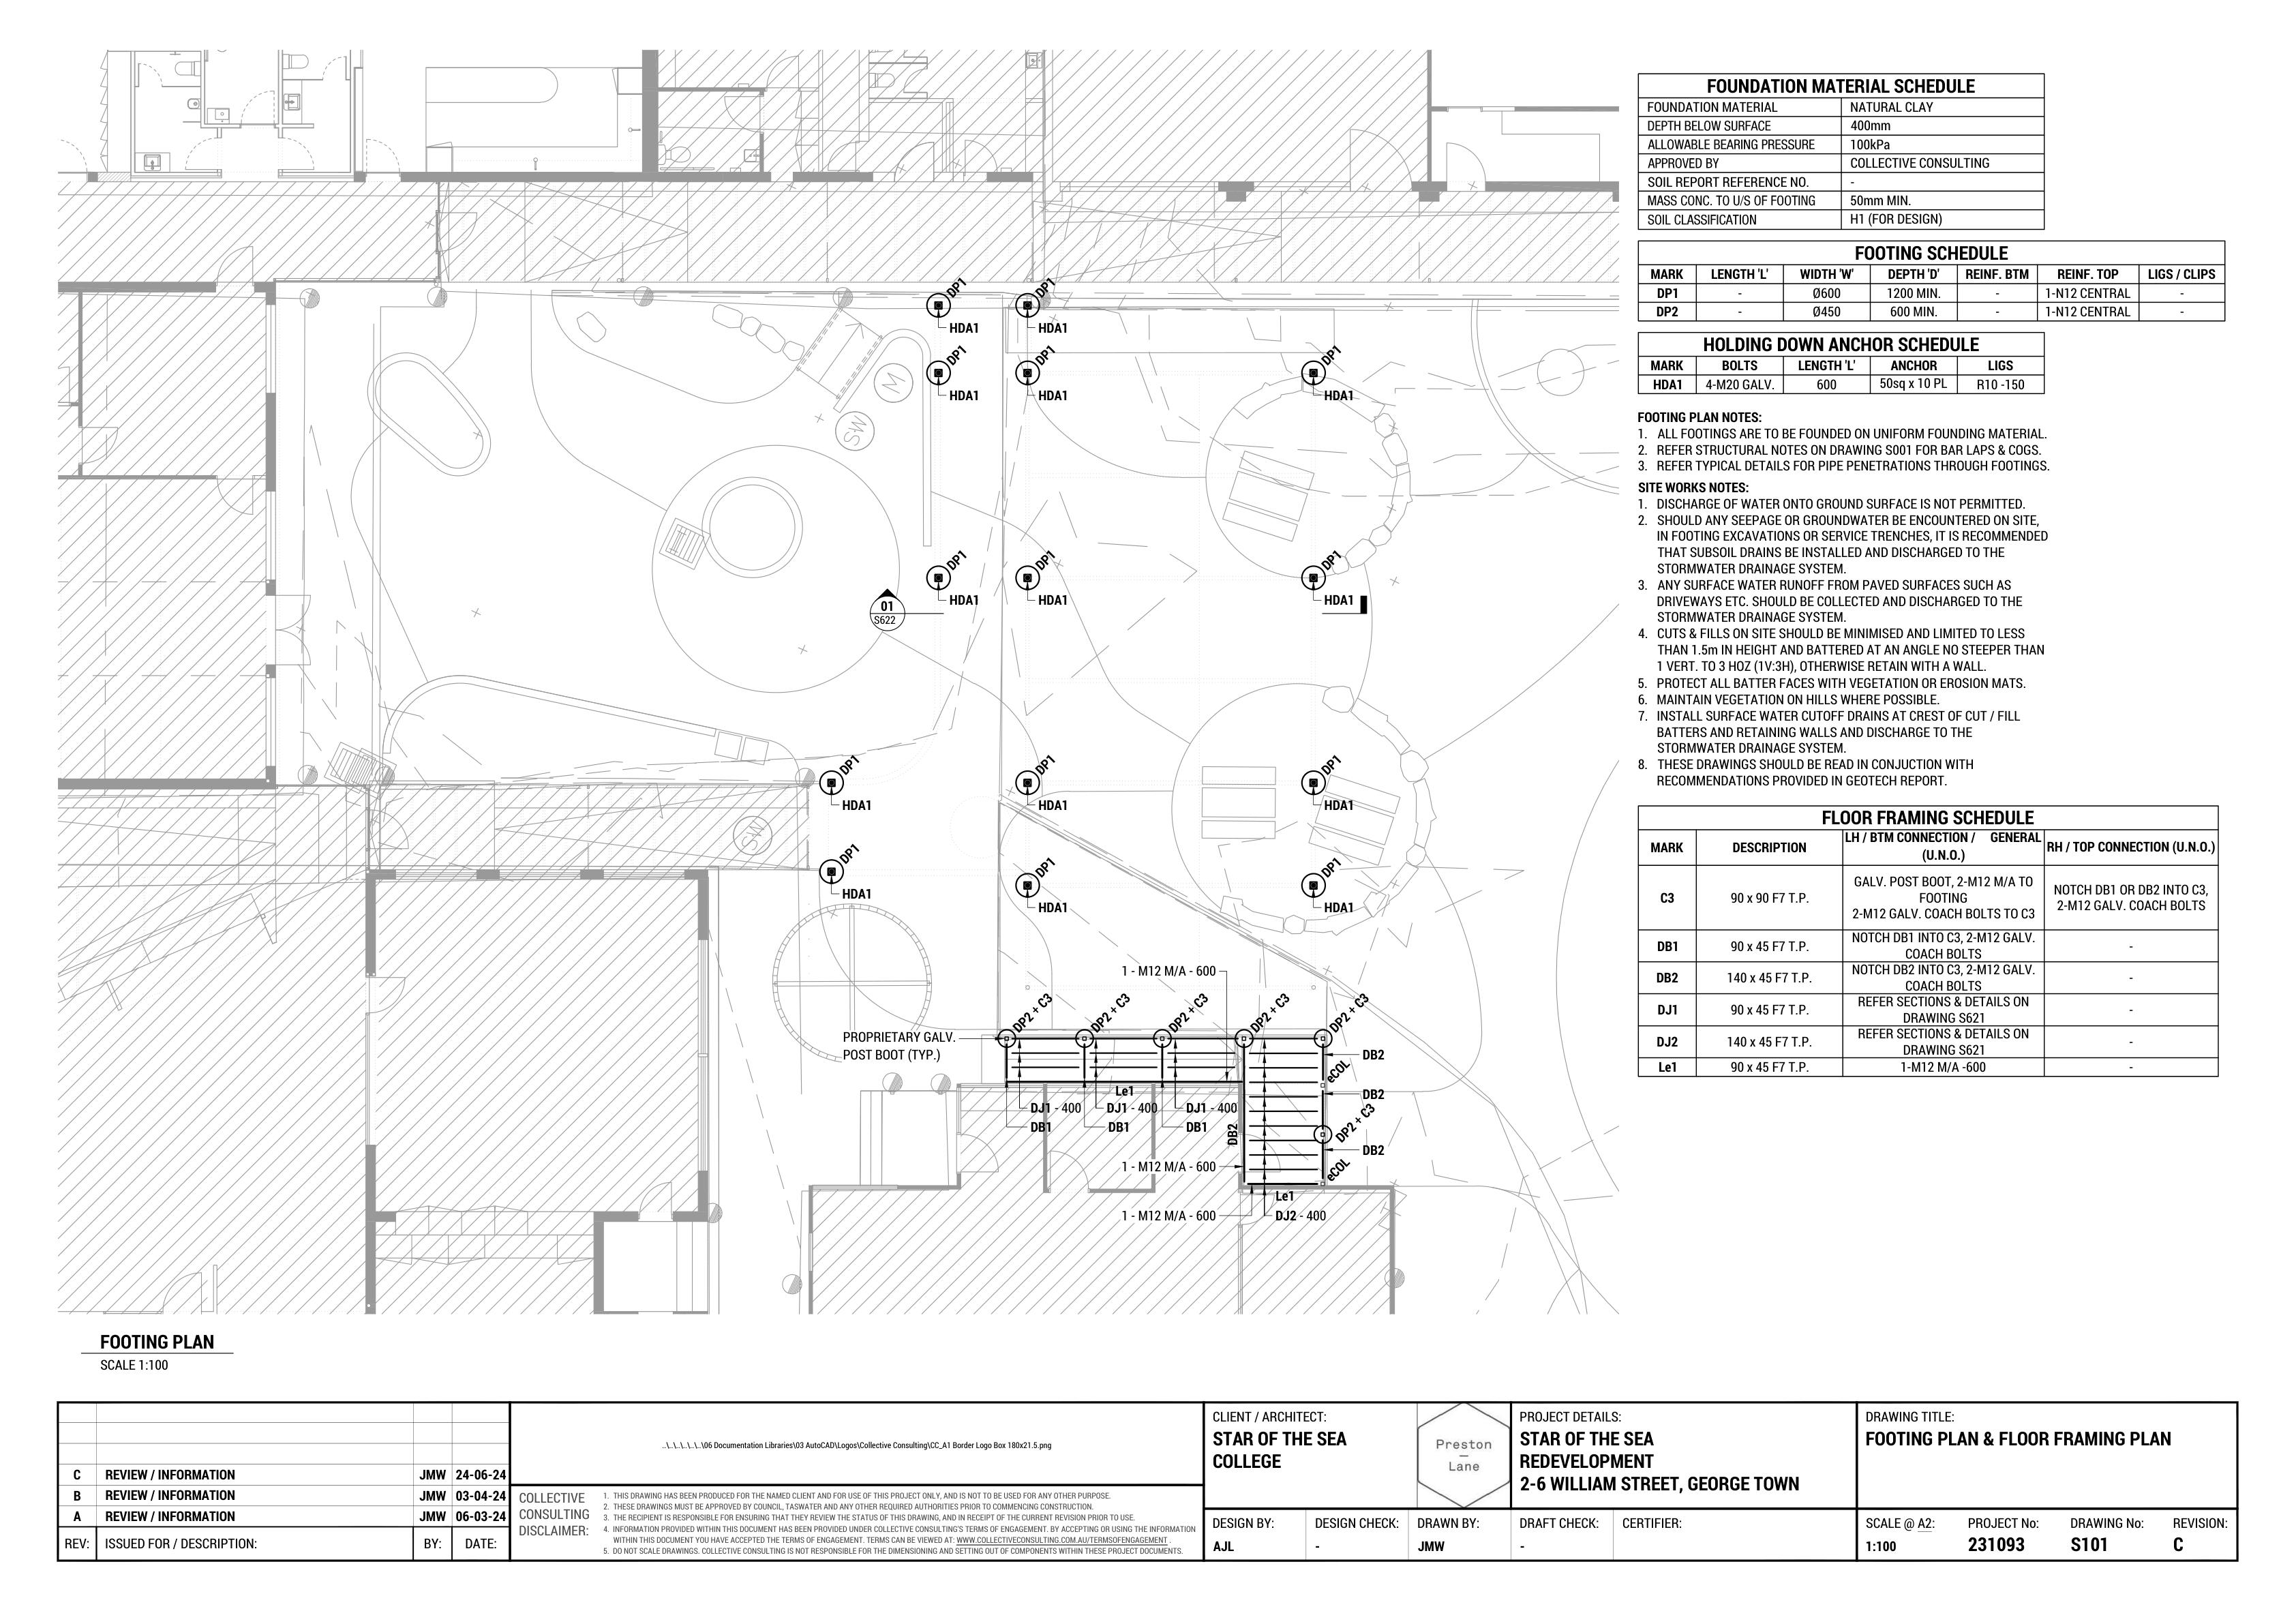C3: (1191, 991, 1216, 1011), (1274, 991, 1295, 1009), (1354, 986, 1372, 1007), (1033, 993, 1052, 1009), (1112, 991, 1131, 1007)
DB1: (1184, 1120, 1210, 1137), (1029, 1118, 1054, 1134), (1108, 1121, 1130, 1137)
DB2: (1356, 1079, 1391, 1100), (1363, 1137, 1397, 1158), (1358, 1040, 1388, 1062), (1224, 1120, 1242, 1149)
DJ1: (1182, 1098, 1210, 1116), (1028, 1100, 1051, 1116), (1107, 1100, 1130, 1114)
DJ2: (1274, 1206, 1303, 1225)
DP1: (1035, 267, 1063, 304), (1321, 547, 1347, 573), (938, 548, 968, 571), (1036, 545, 1063, 569), (947, 269, 970, 297), (1321, 341, 1346, 366), (1319, 749, 1340, 777), (834, 754, 863, 775), (1035, 337, 1056, 364), (943, 344, 970, 366), (1035, 854, 1058, 877), (1321, 858, 1346, 879), (1036, 749, 1054, 777), (838, 842, 857, 866)
DP2: (1321, 1005, 1354, 1033), (1008, 1009, 1033, 1032), (1166, 1011, 1189, 1033), (1087, 1011, 1112, 1032), (1333, 1121, 1358, 1141), (1249, 1014, 1270, 1033)
HDA1: (1319, 387, 1367, 413), (1031, 893, 1075, 919), (1325, 587, 1361, 612), (1321, 896, 1360, 917), (950, 589, 986, 612), (1321, 794, 1358, 816), (1031, 798, 1075, 816), (1036, 589, 1068, 610), (840, 888, 877, 905), (1038, 316, 1073, 334), (840, 800, 877, 816), (954, 316, 982, 334)
lE1: (1274, 1188, 1298, 1202)
